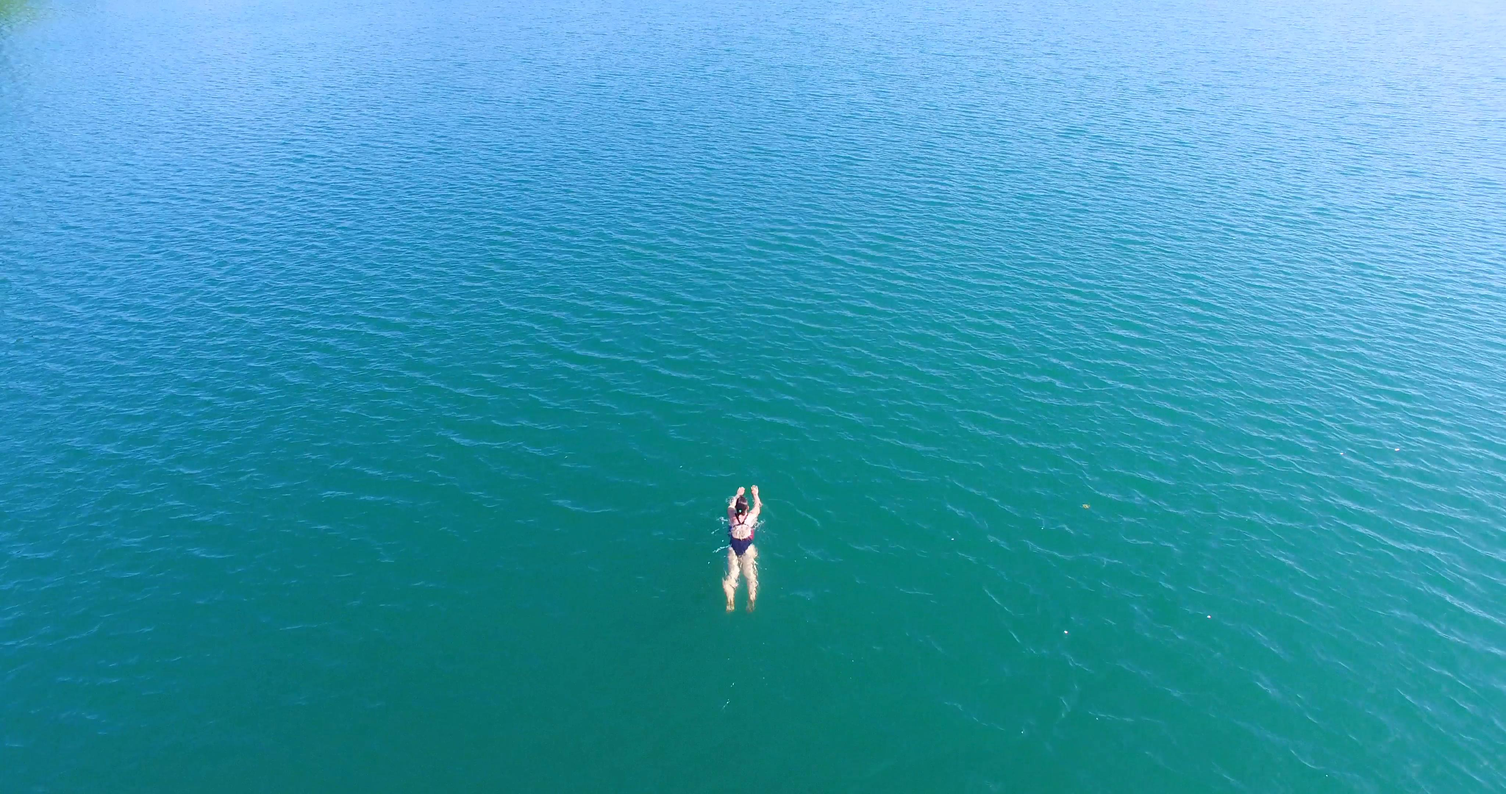human: (716, 480, 767, 616)
